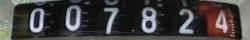digits: (102, 6, 119, 34), (64, 4, 81, 30), (140, 6, 156, 32), (178, 8, 194, 34), (28, 7, 44, 32), (214, 9, 228, 33)
